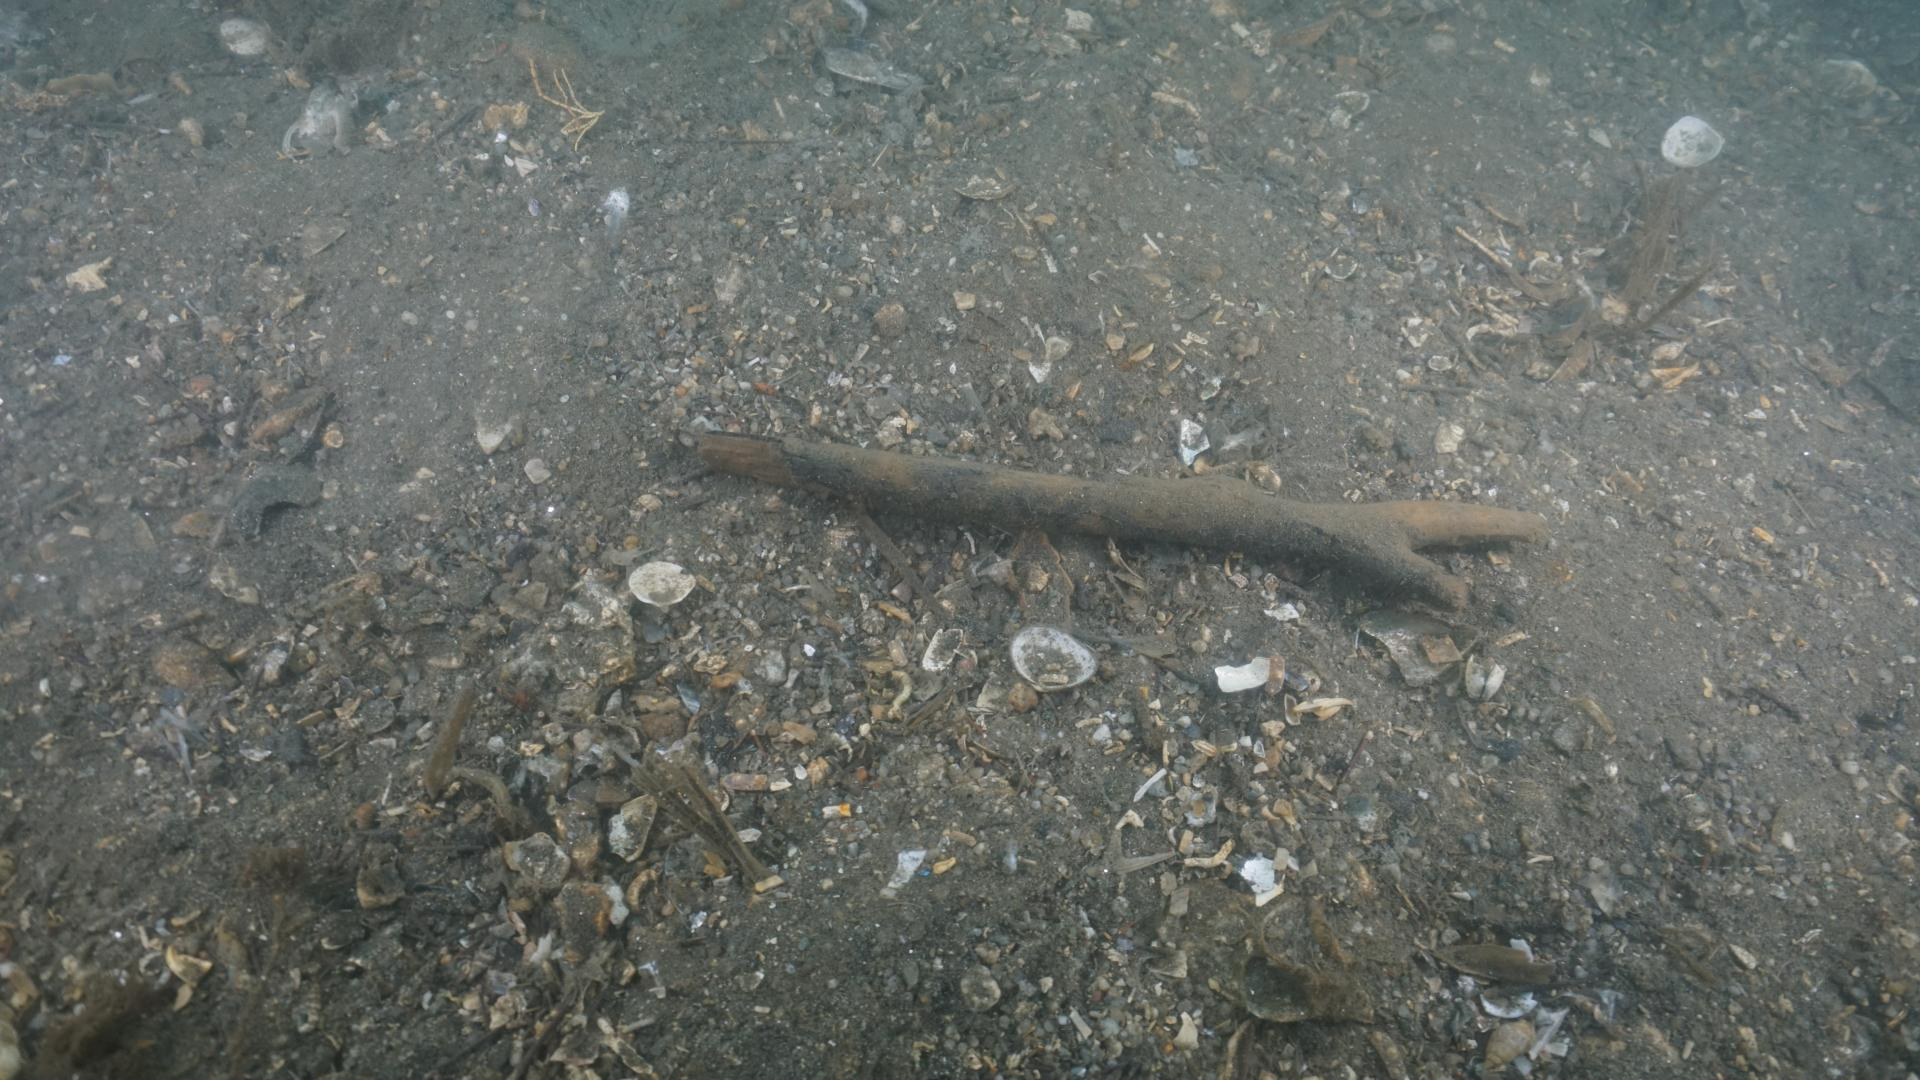wood: (663, 422, 1544, 605)
